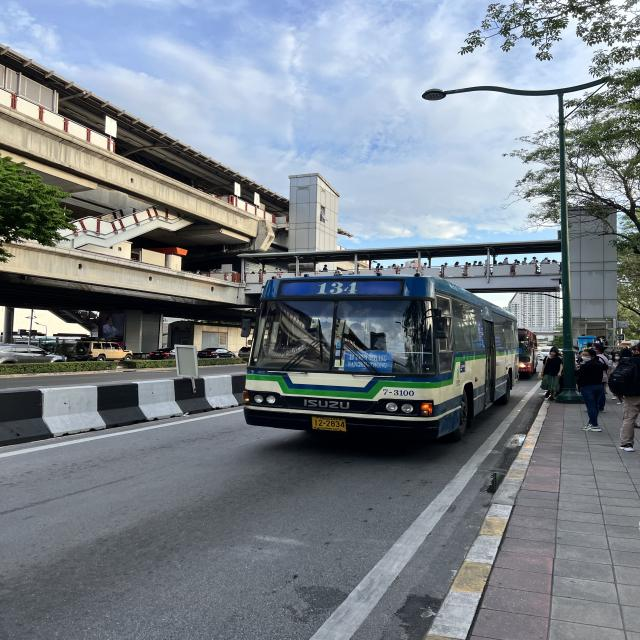BMTA-bus: (240, 274, 517, 442), (517, 328, 541, 376)
Bus Line Number: (306, 278, 369, 298)
Bus Side Number: (380, 385, 418, 399)
Destination Sign: (346, 350, 393, 372)
